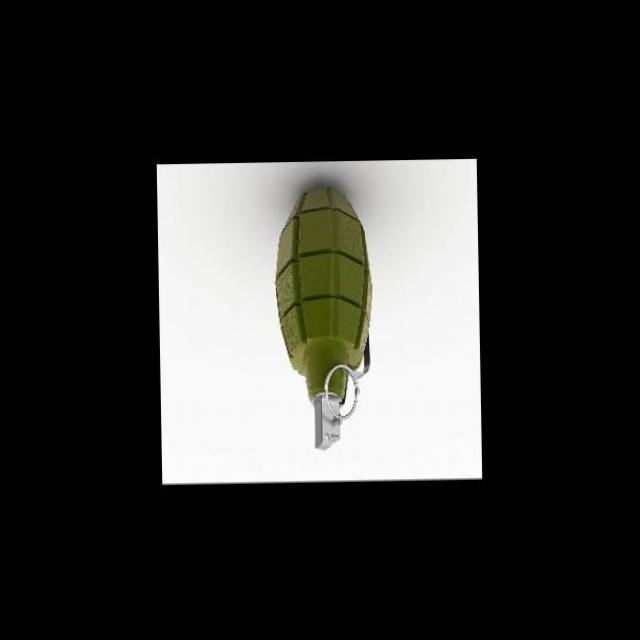grenade: (266, 161, 386, 457)
